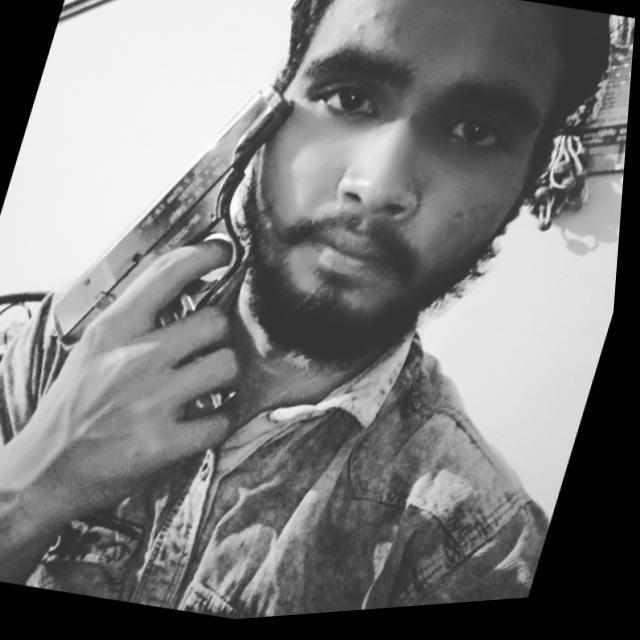weapon: (22, 48, 336, 453)
